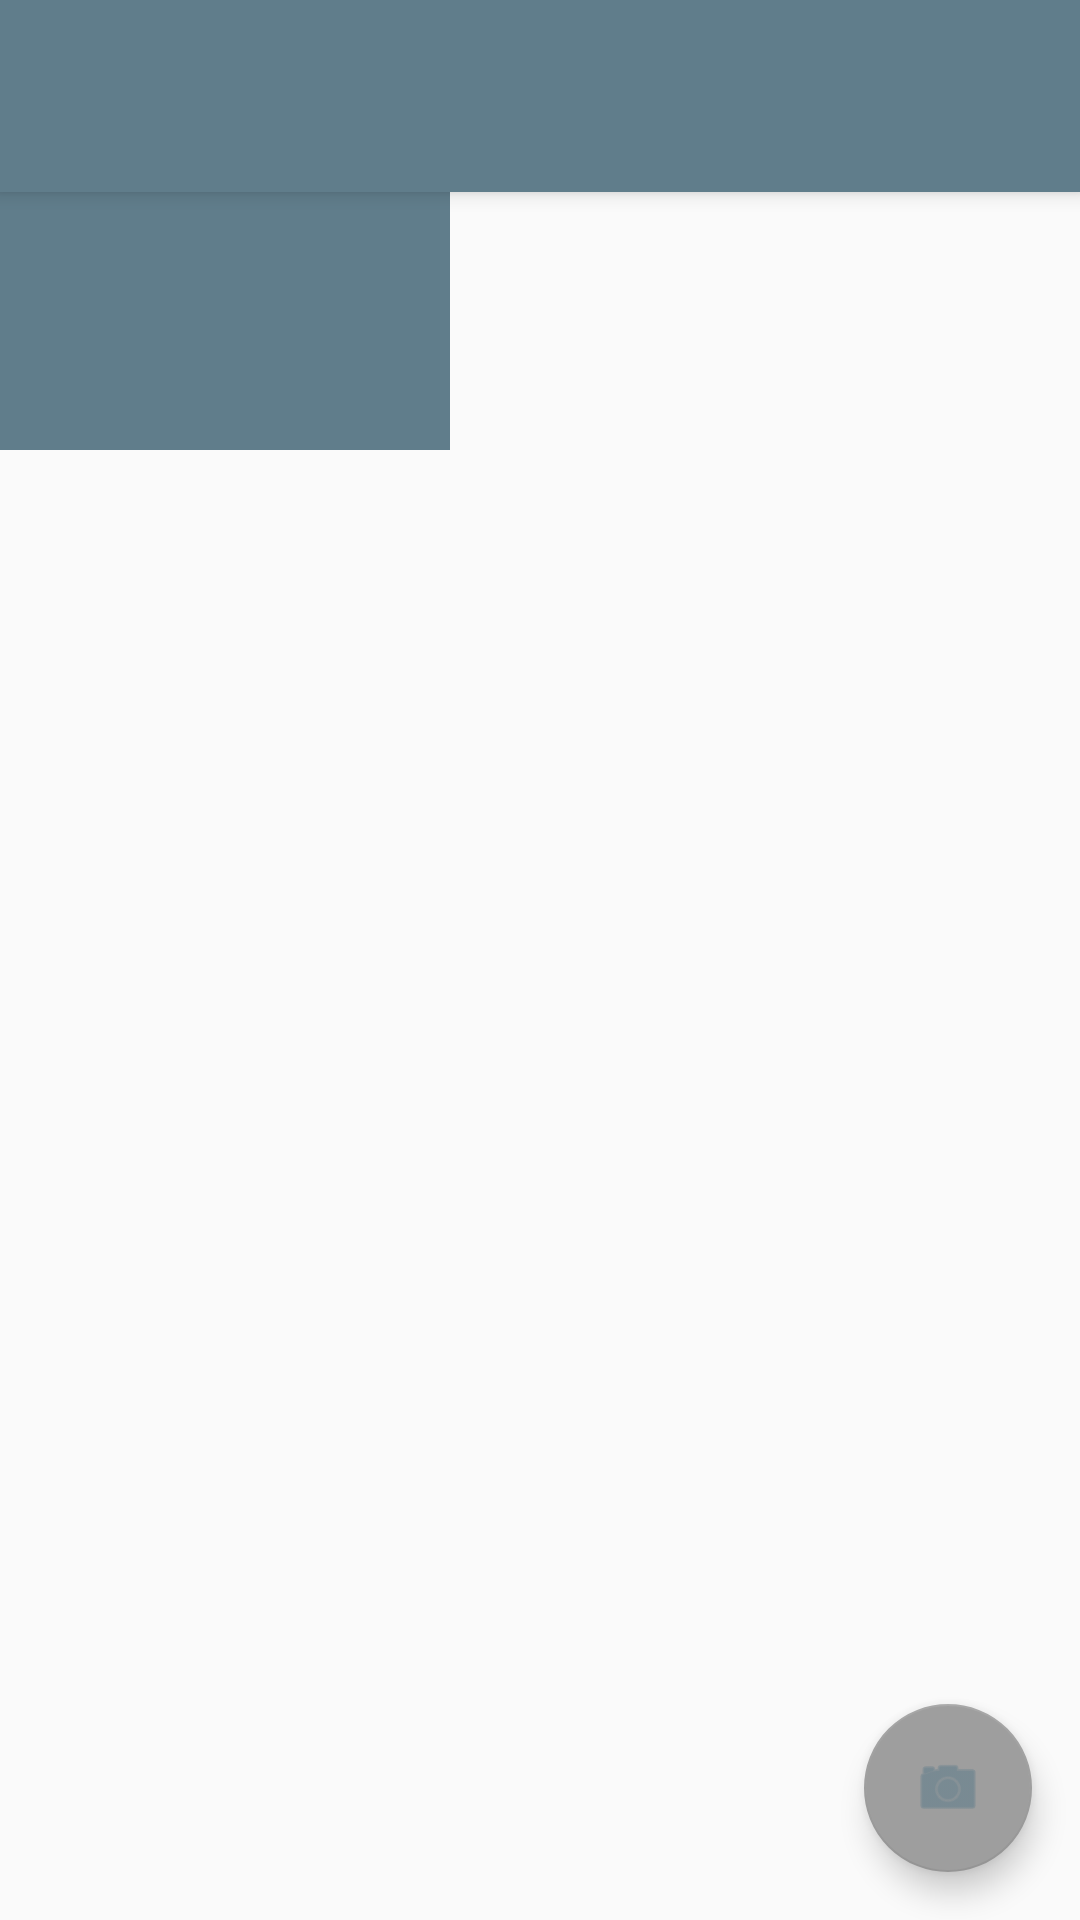

Icon click points for this 1080×1920 phone screenshot, format [x,y]:
camera: [948,1788]
